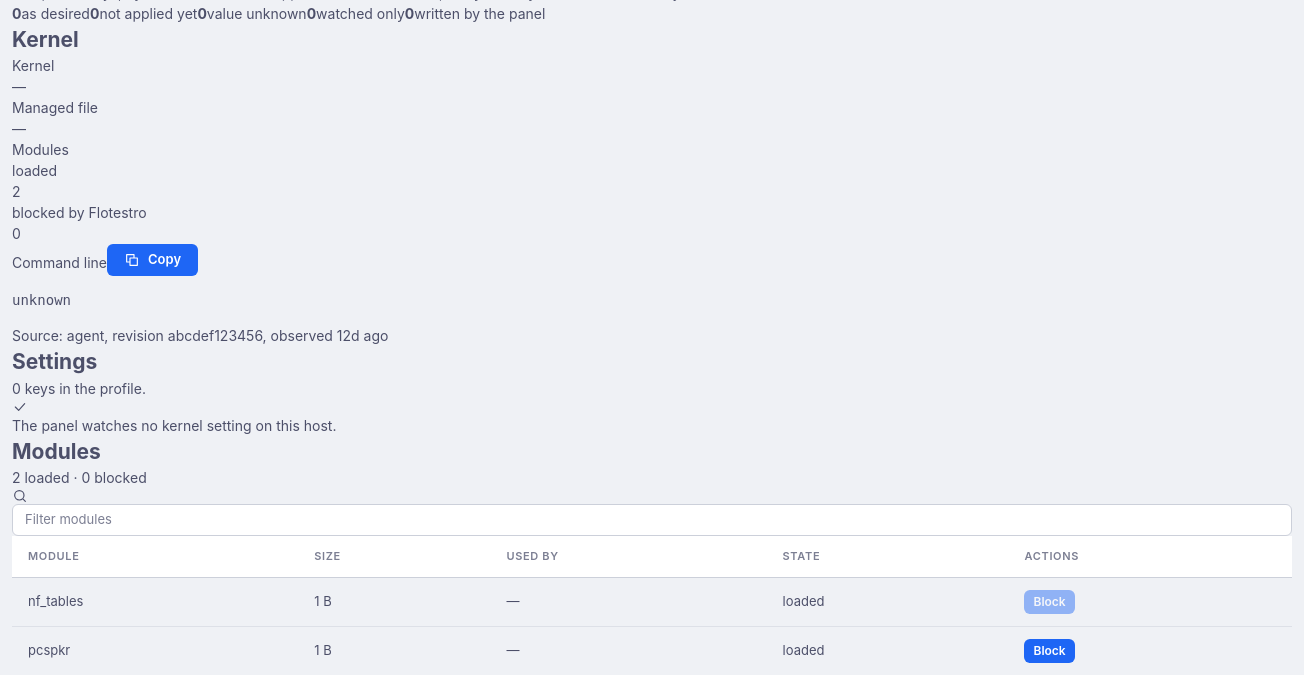
Test: the kernel settings of a host › narrows the module list in the browser, because the host sent all of it
The image size is (1304, 675).
(page scrolled)
Expected: the row with test id "module-pcspkr" is shown, [12,626,1292,674]
In the field with test id "module-filter": (652, 520) [12,504,1292,536], type "nf_"
(page scrolled)
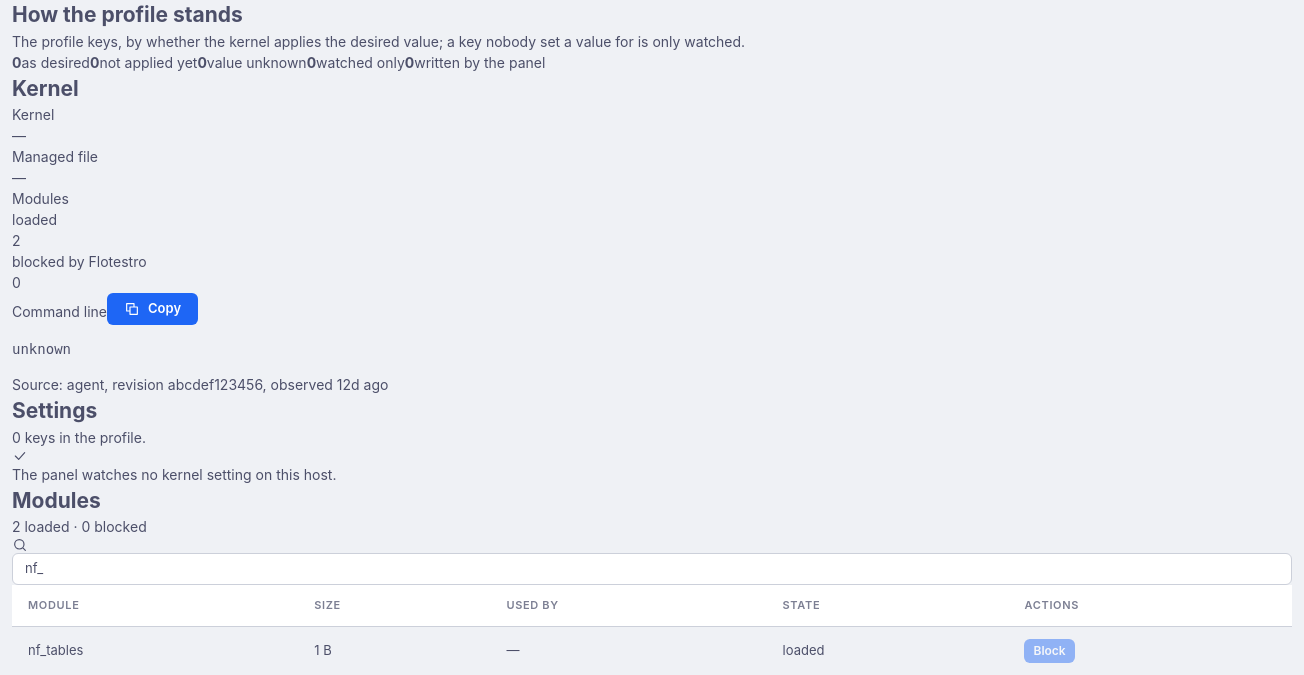
Expected: the row with test id "module-nf_tables" is shown, [12,626,1292,674]
Now the row with test id "module-pcspkr" is gone
